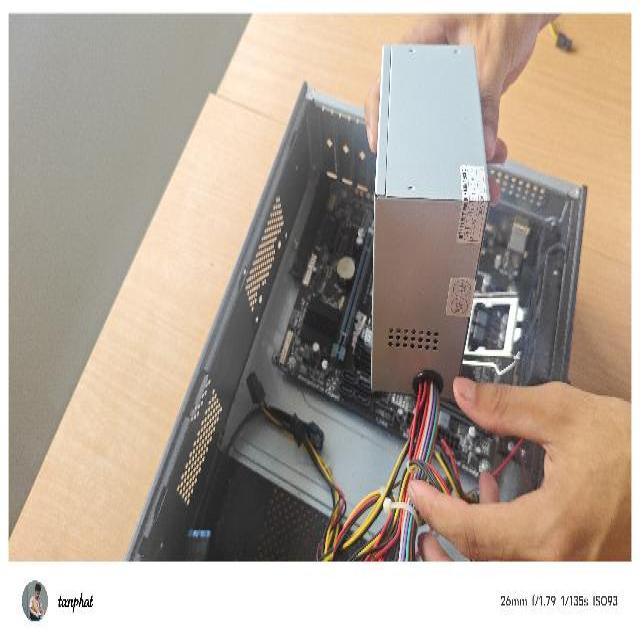PSU: (369, 41, 492, 408)
